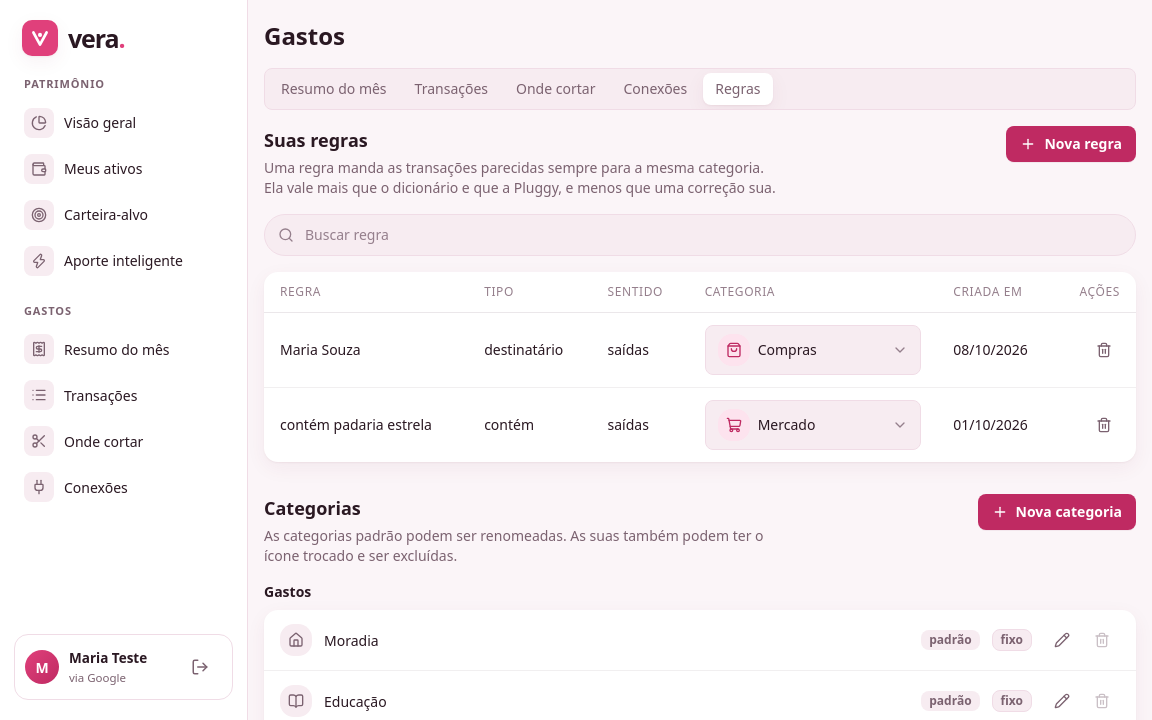
RulesPage: categorias › cria a categoria Pets como gasto flexível com o ícone PawPrint
This screenshot has width=1152, height=720.
Expected: the heading "Suas regras" is shown, [264,128,368,152]
Expected: the text "Maria Souza" is shown, [280,340,361,359]
Click the button "Nova categoria": {"x": 1057, "y": 512} [978,494,1136,530]
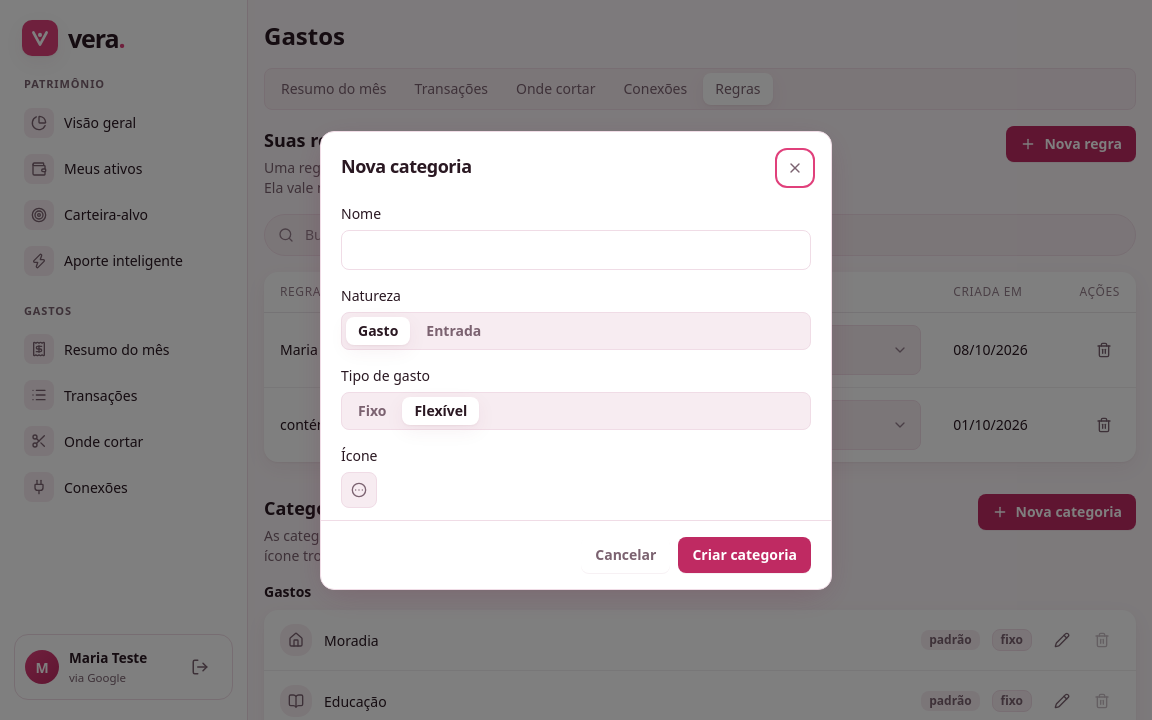
In the field labelled "Nome": {"x": 576, "y": 250} [341,230,811,270], type "Pets"
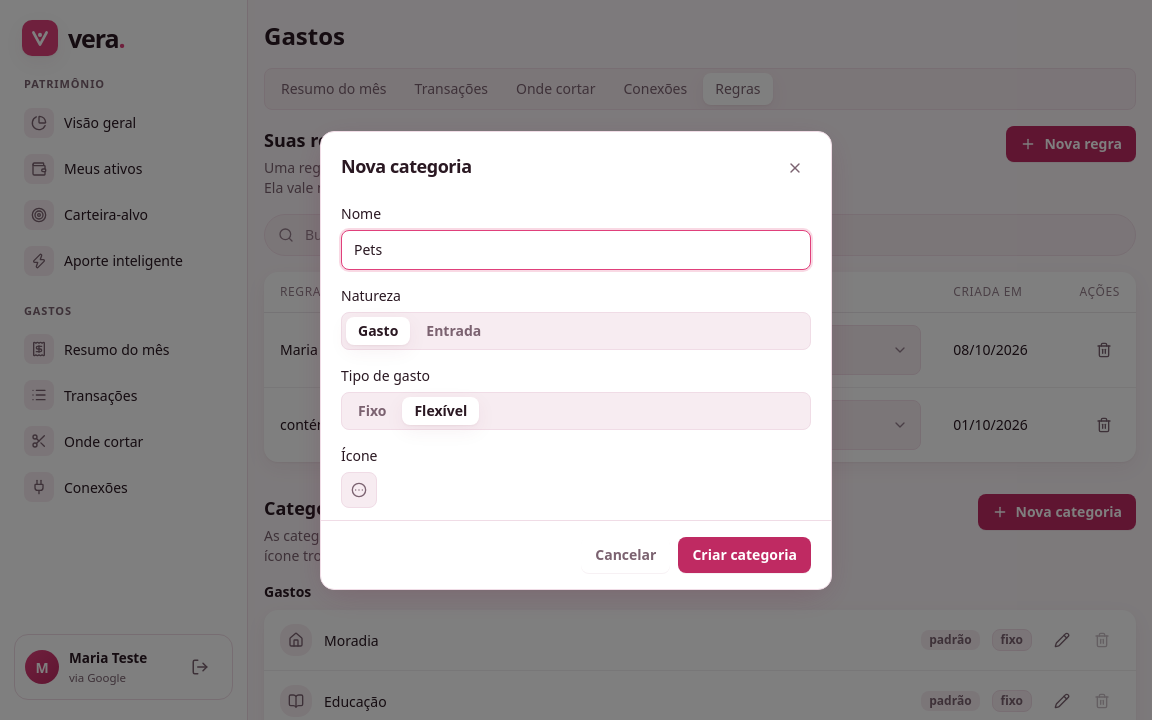
Click the button named "Ícone": {"x": 359, "y": 490} [341,472,377,508]
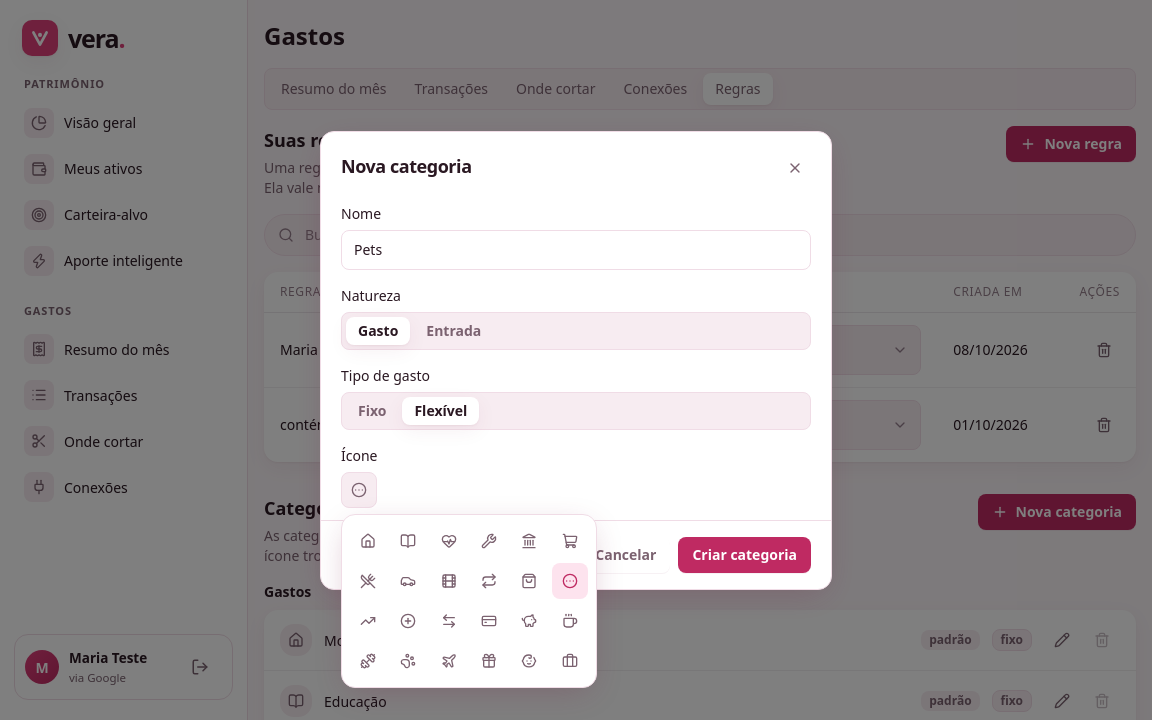
Click the menu item named "Pata": {"x": 408, "y": 661} [400,653,416,669]
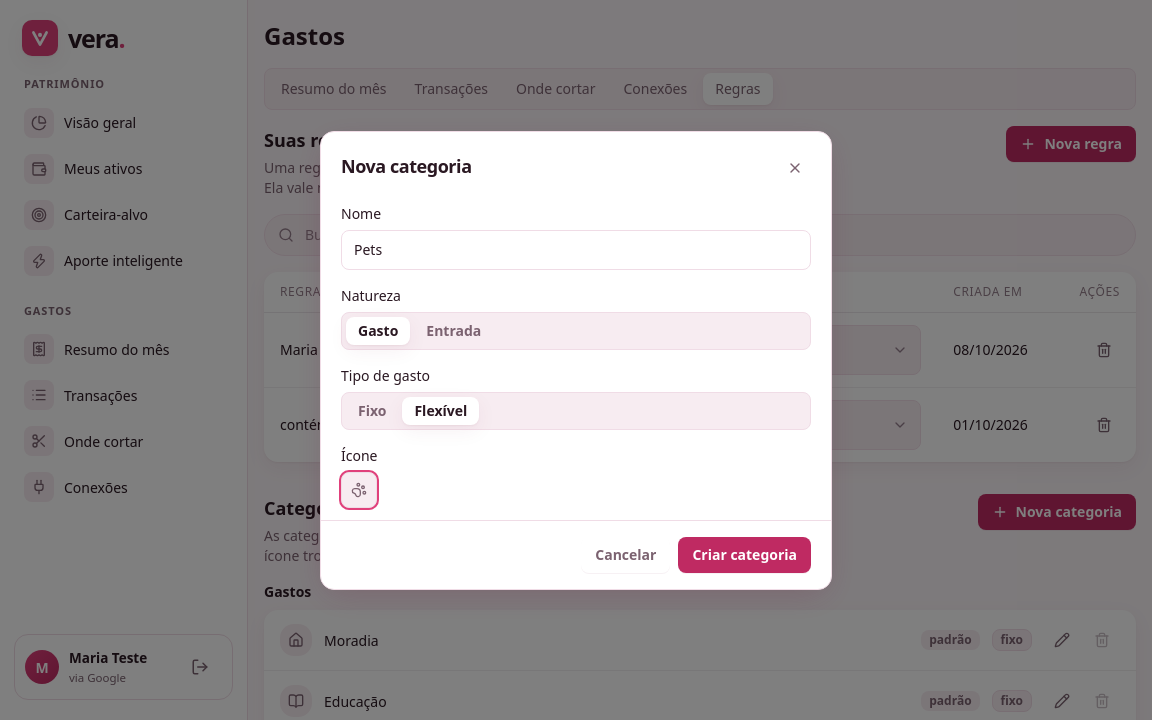
Click the button "Criar categoria": {"x": 745, "y": 554} [678,536,811,572]
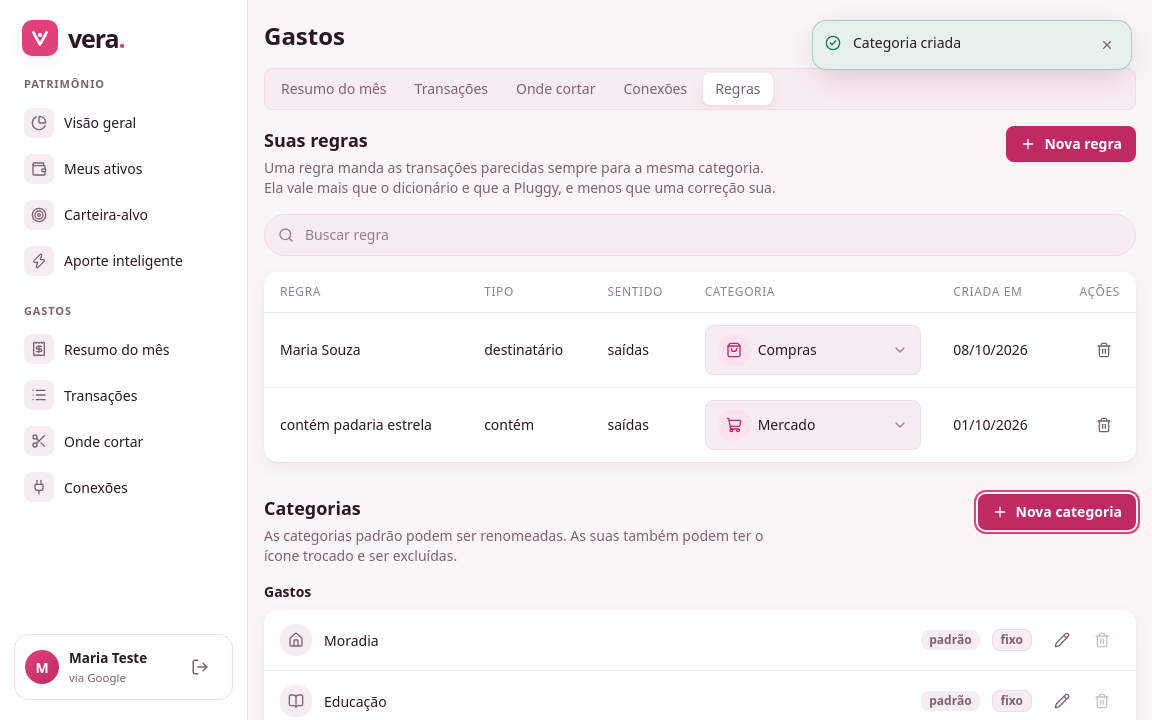
Now the text "Categoria criada" is shown, box [853,33,961,53]
